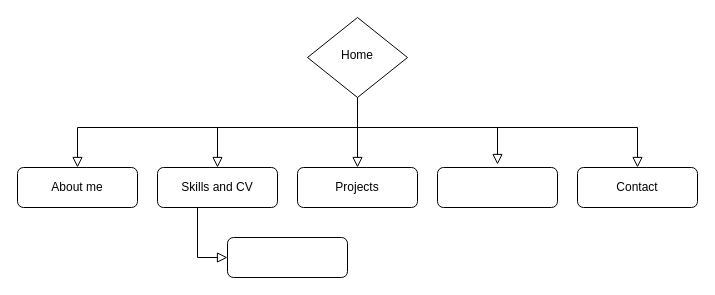
Some shapes in this 715 by 295 pixel diagram are drawn without their labels. Here are the shapes that lost their labels. From the top down, the centre of each, then its label:
the point at 497,187: Blogs
the point at 287,257: Resume
